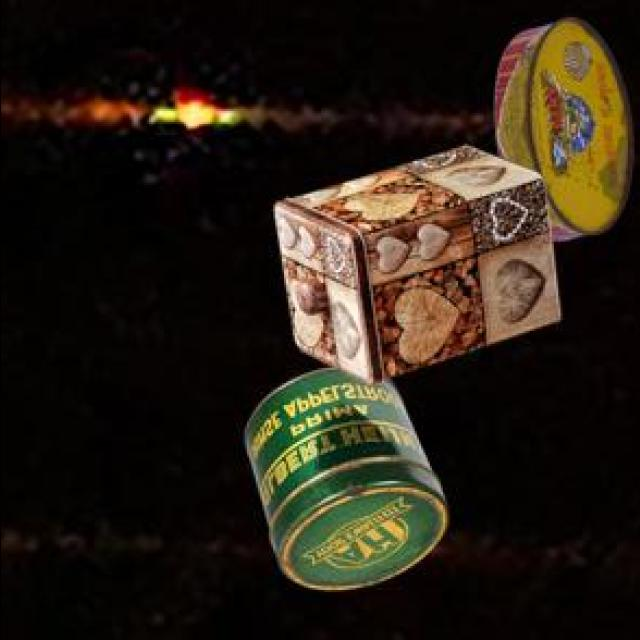logam: (278, 149, 563, 389), (247, 371, 452, 593), (497, 21, 635, 245)
